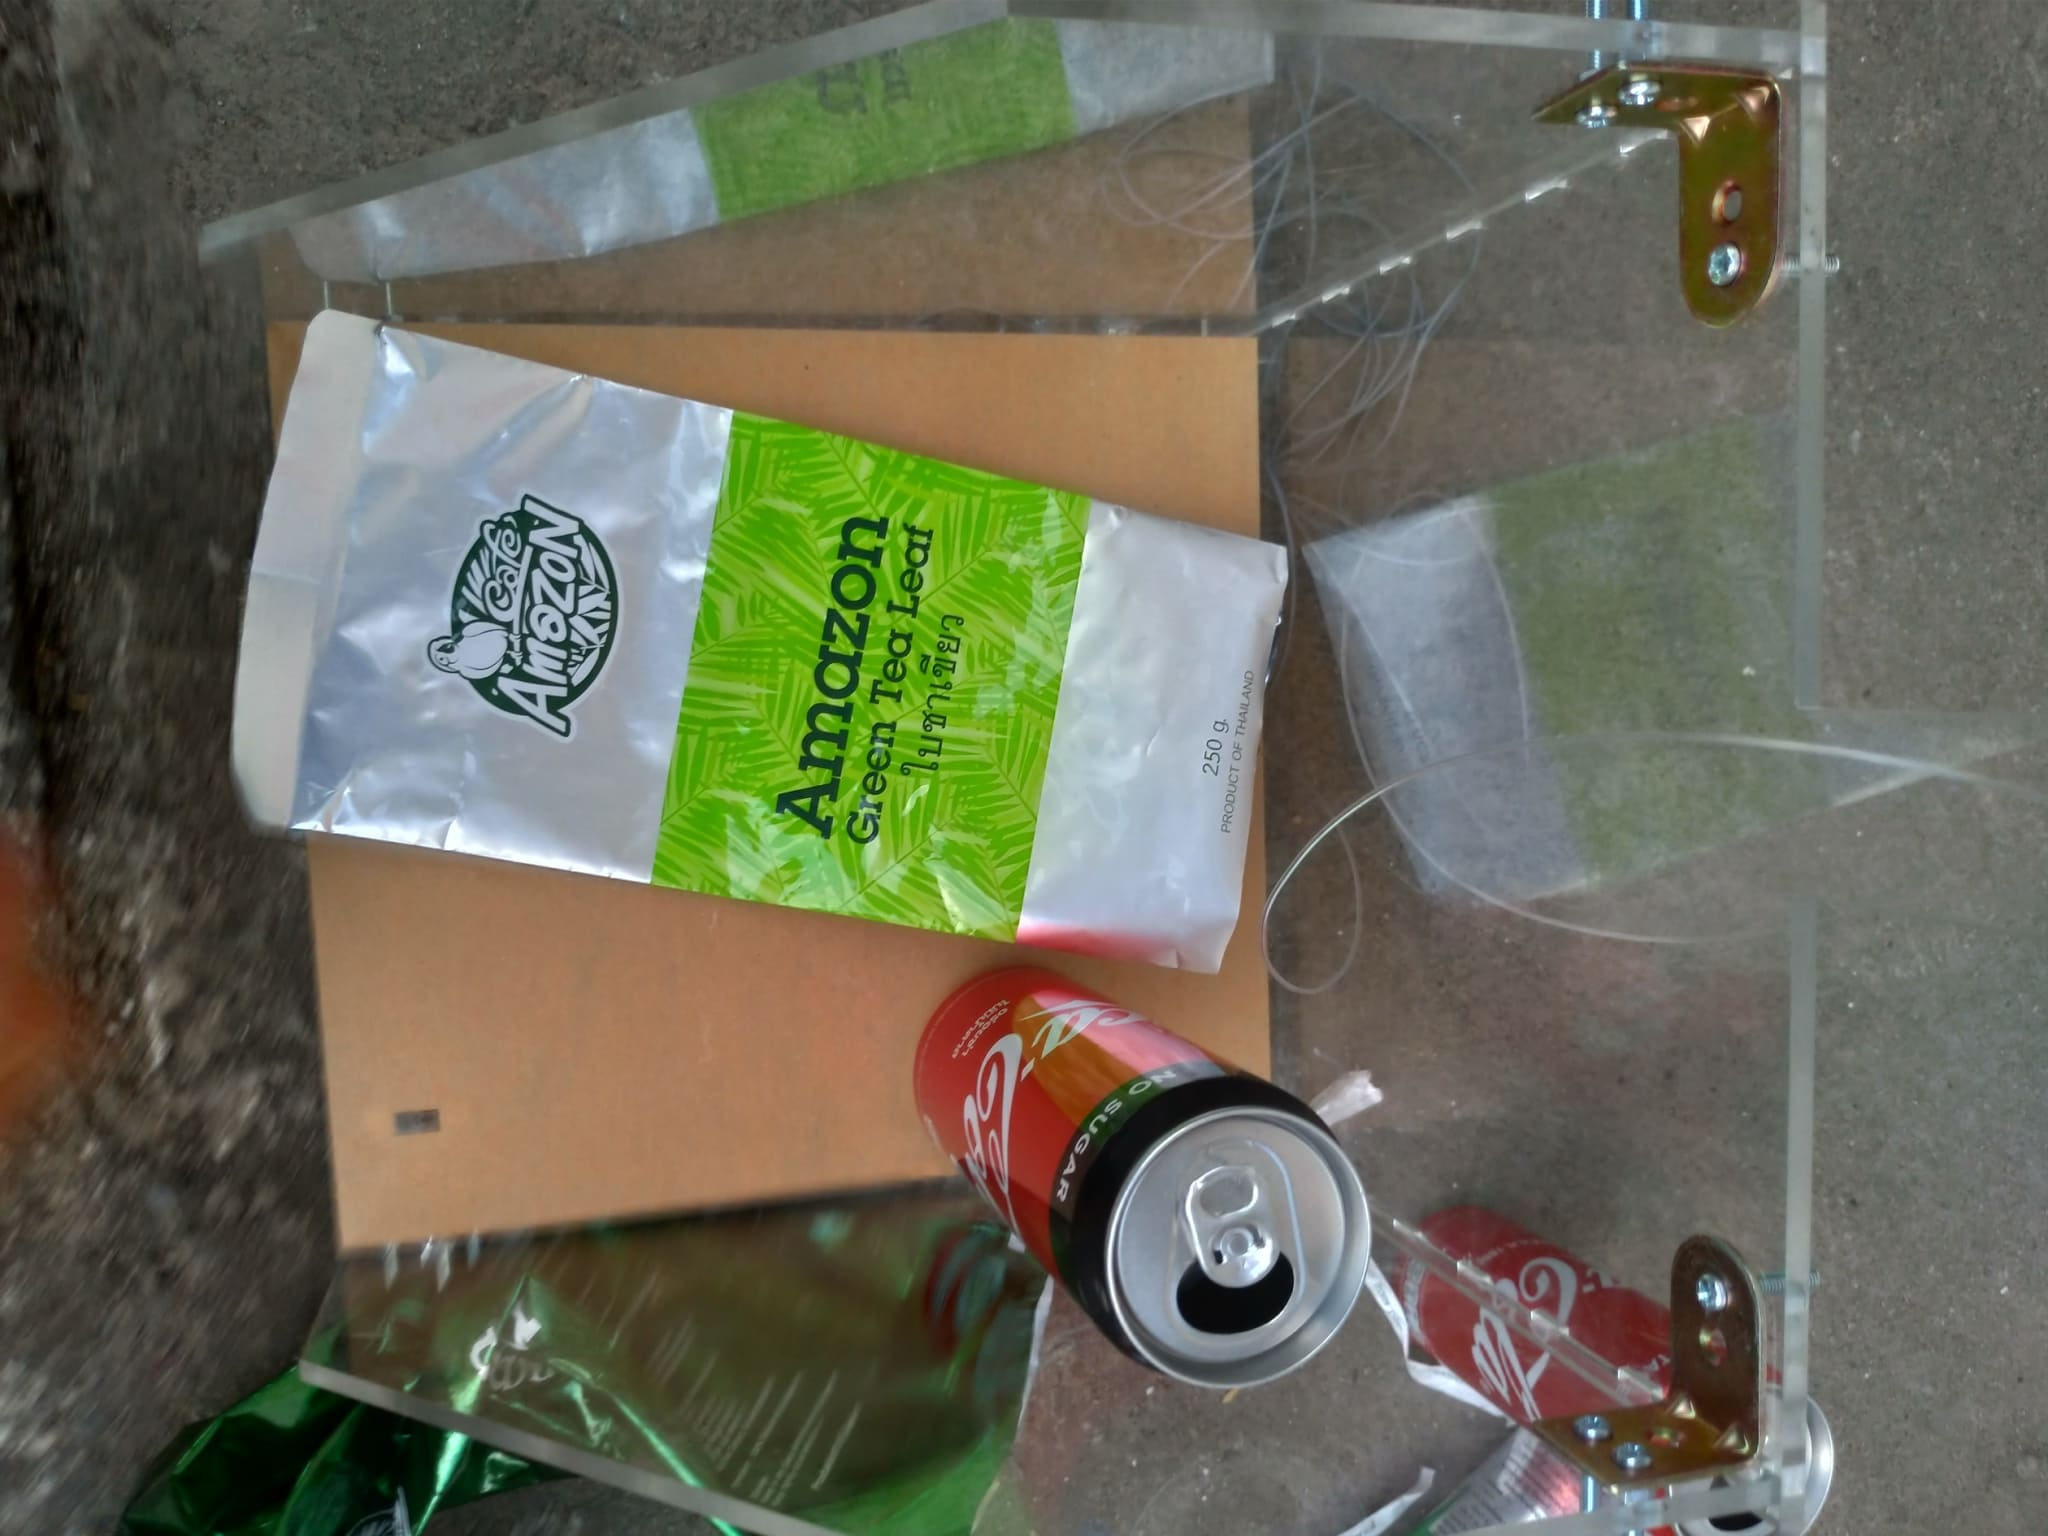AlCan: (911, 965, 1348, 1391), (1400, 1205, 1835, 1536)
Others: (219, 303, 1285, 975), (134, 1213, 1035, 1536)
